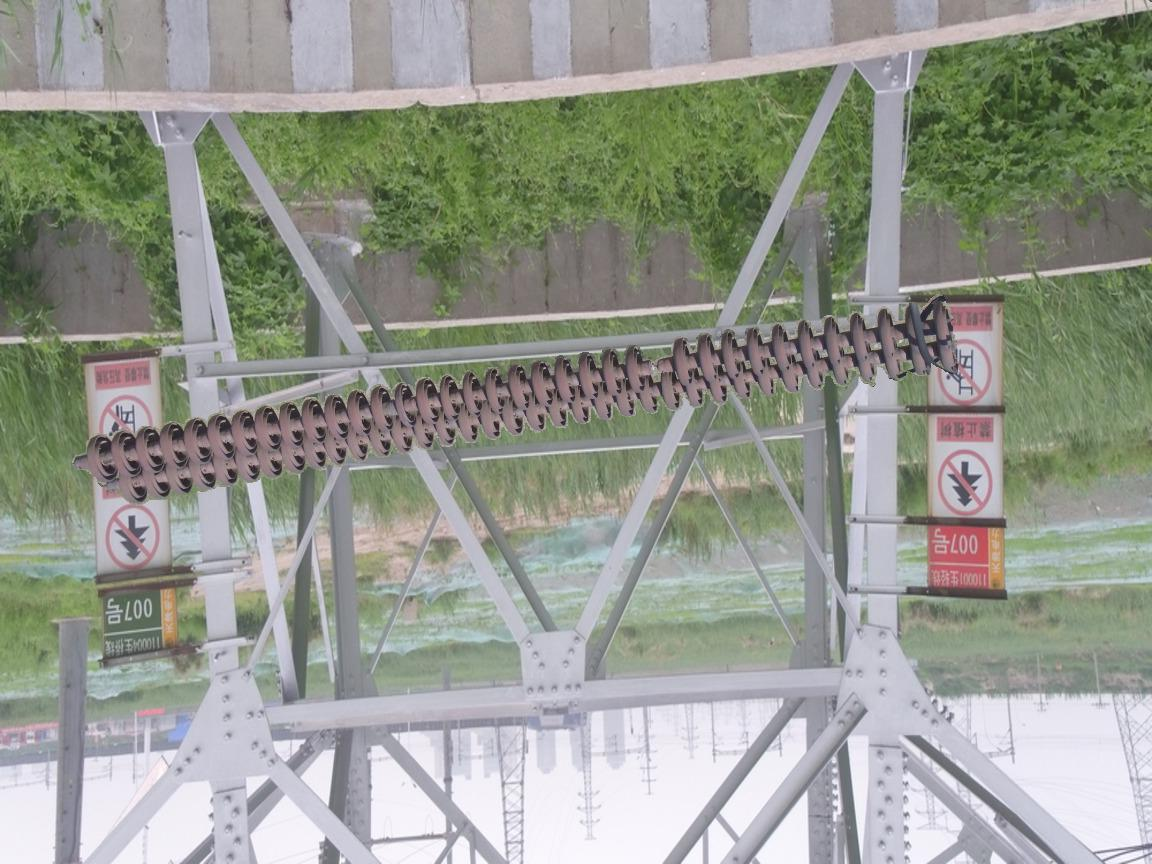insulator: (80, 294, 964, 508)
insulator_stringdrop: (622, 335, 695, 396)
